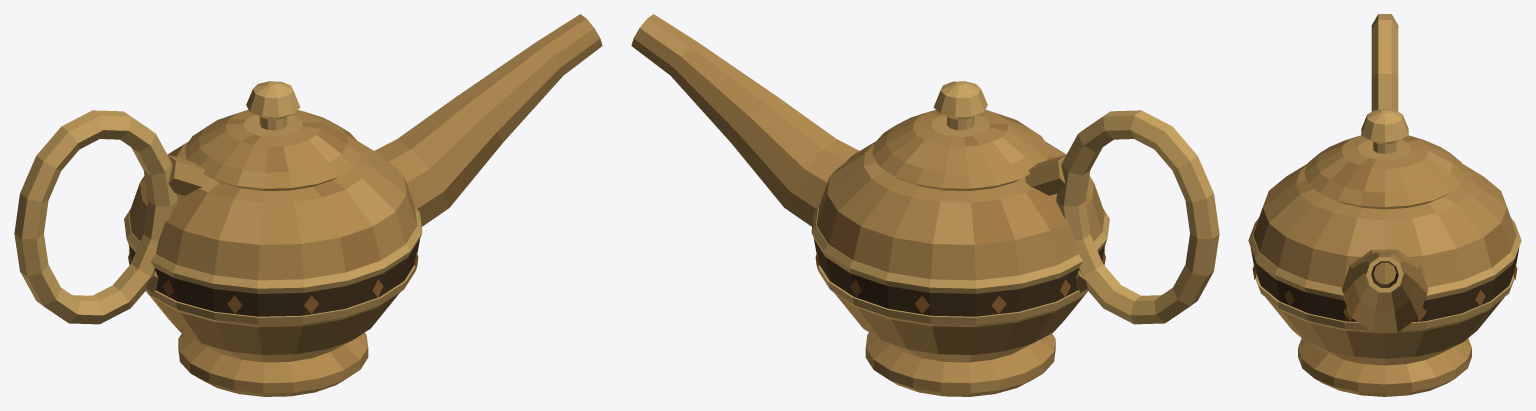
The model's file is Lamp.glb.
3 views of the same model, side by side, from view 1: azimuth 30°, elevation 25°; view 2: azimuth 150°, elevation 25°; view 3: azimuth 270°, elevation 25° (orthographic). The views are drawn at different scales.
Visible parts, largest first — view 1: LampMesh; view 2: LampMesh; view 3: LampMesh.
Part boxes in pixels (x1,y1,x2,y2): LampMesh: (14, 14, 602, 396); LampMesh: (631, 14, 1219, 396); LampMesh: (1248, 14, 1521, 396).
Size of the model in its own units: 0.294 by 0.1416 by 0.132.
